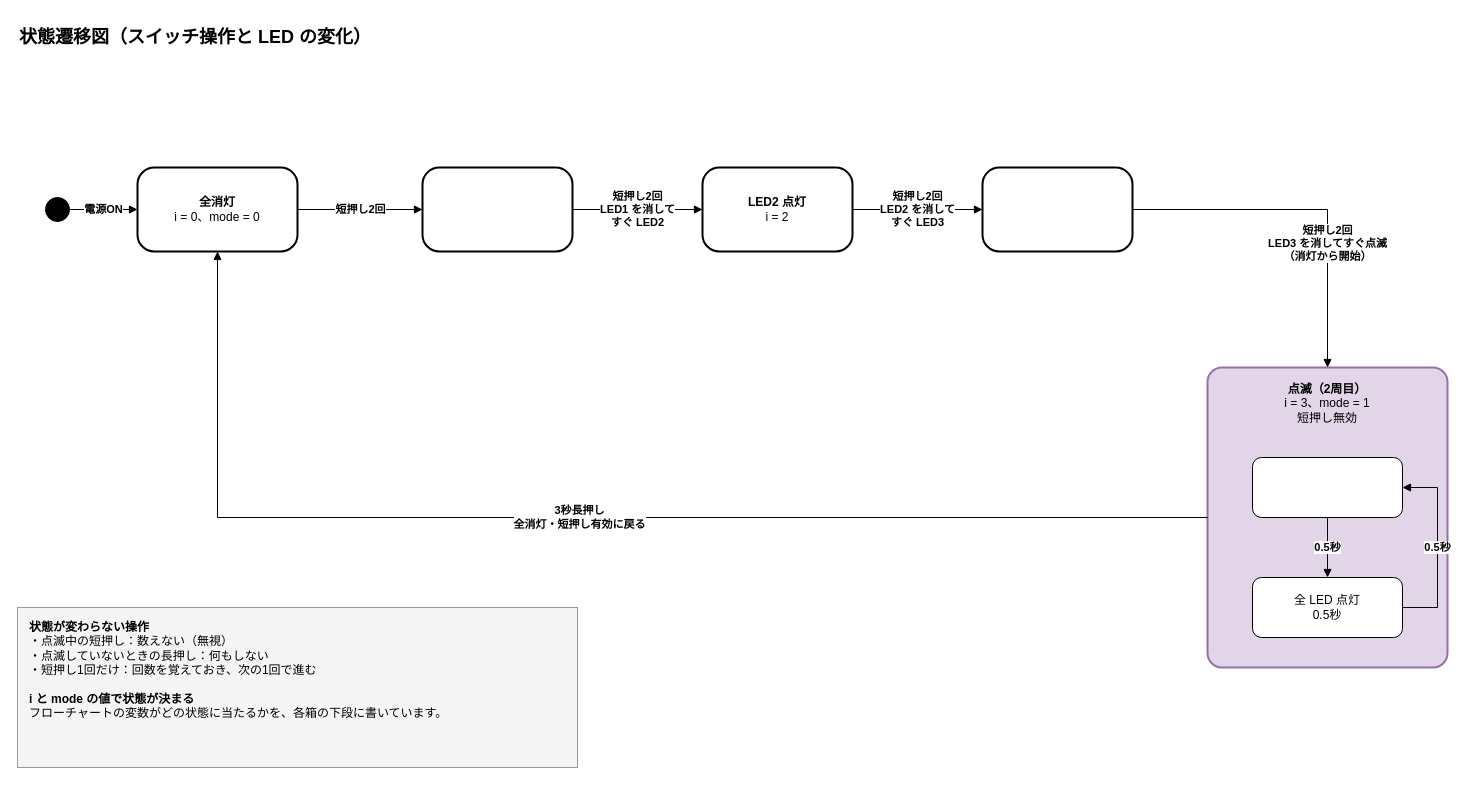
Image size: 1468x785. Some labels were removed from this diagram. Here are the shapes that lost their labels. From the top down, the centre of each, then its label:
At pixel 497 209: "LED1 点灯 i = 1".
At pixel 1057 209: "LED3 点灯 i = 3".
At pixel 1327 487: "全 LED 消灯 0.5秒".
